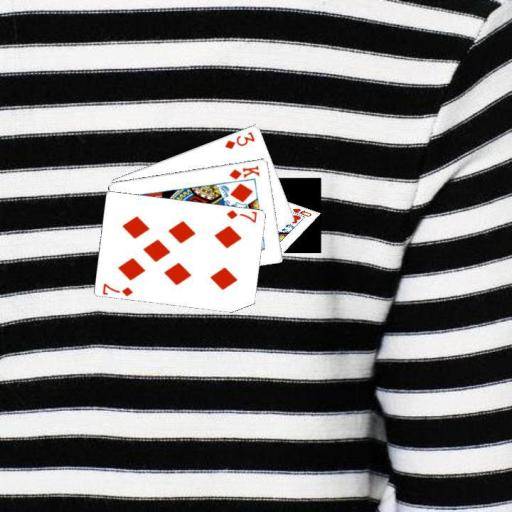3D: (222, 128, 257, 150)
7D: (223, 207, 258, 224), (100, 280, 135, 297)
KD: (226, 162, 261, 181)
